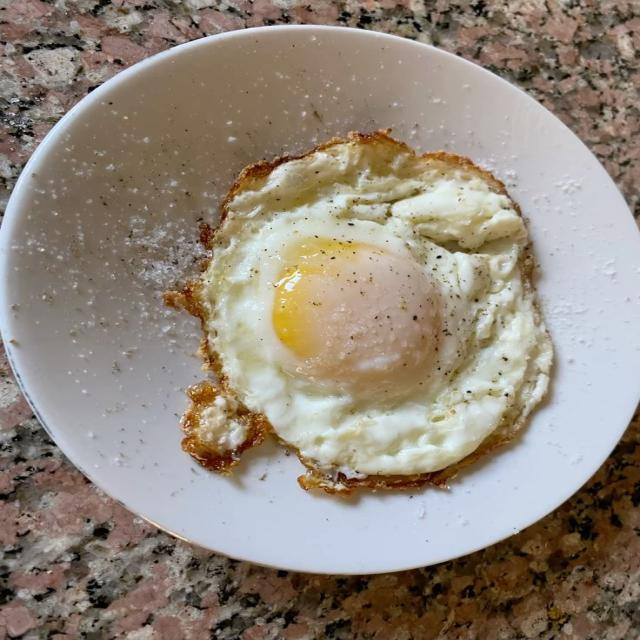fryed egg: (188, 132, 551, 490)
